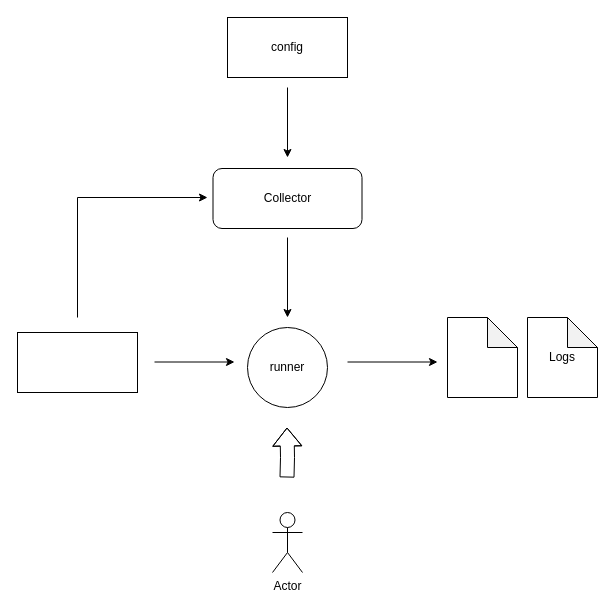
The diagram is 615 pixels wide and 611 high, and some of its shapes have lost their labels. Each missing label, with the centre of its shape:
Reports: pixel 482 357
Utilities: pixel 77 362
